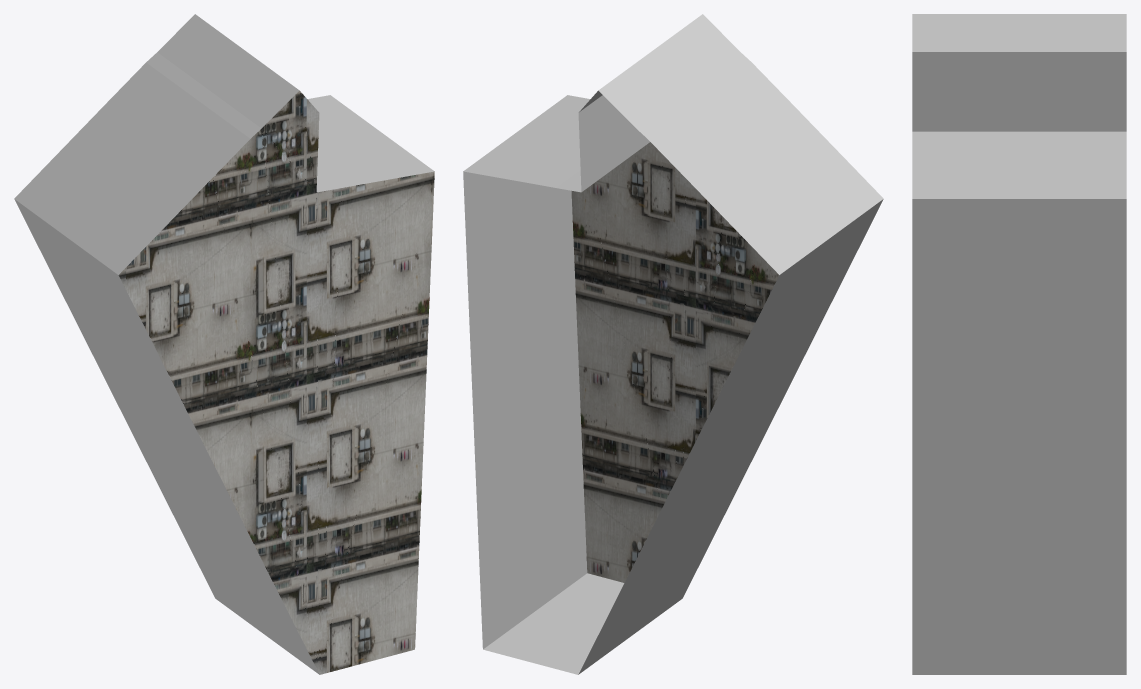
File: geospecific_1353.obj
The picture shows the model from 3 angles, left to right: view 1: azimuth 30°, elevation 25°; view 2: azimuth 150°, elevation 25°; view 3: azimuth 270°, elevation 25°; orthographic projection. The views are drawn at different scales.
Visible parts, largest first — view 1: Building; view 2: Building; view 3: Building.
Part boxes in pixels (left/top/right/bottom): Building: left=14, top=14, right=434, bottom=674; Building: left=463, top=14, right=883, bottom=674; Building: left=912, top=14, right=1126, bottom=674.
Size of the model in its own units: 26.24 by 46.72 by 15.
